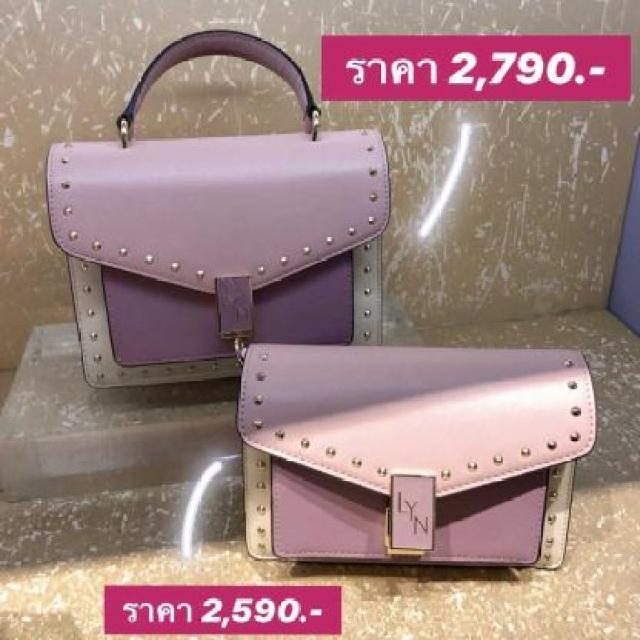Bag: (26, 10, 472, 401), (204, 303, 598, 617)
